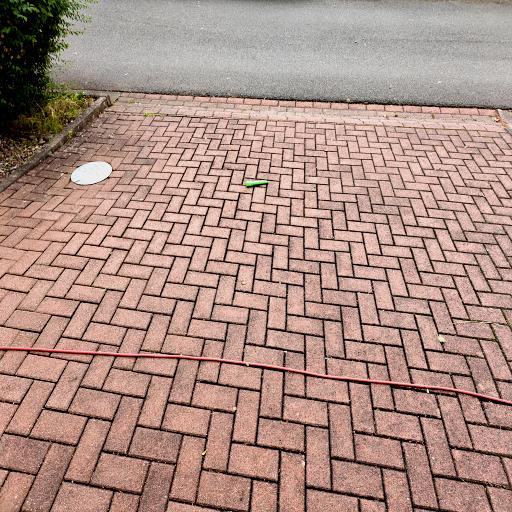Probe-Detection: (246, 180, 268, 187)
